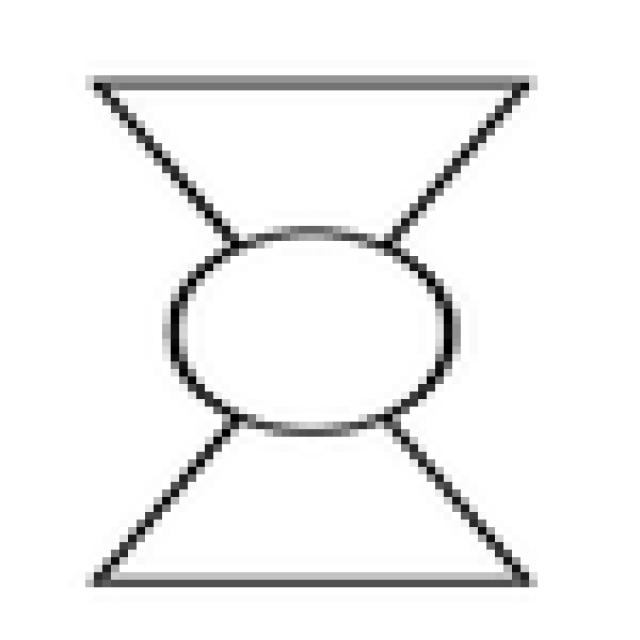ball valve: (88, 81, 529, 589)
